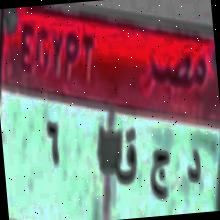6: (40, 116, 69, 172)
daal: (185, 145, 207, 195)
jeem: (144, 136, 176, 207)
qaaf: (110, 130, 146, 190)
